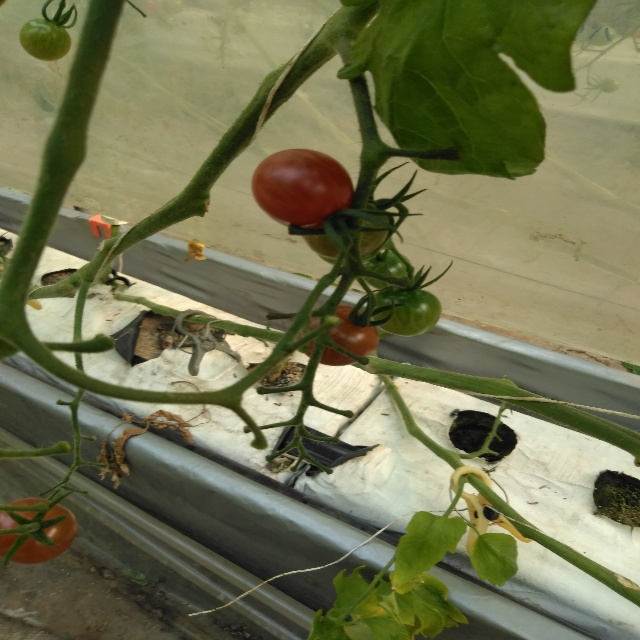l_fully_ripened: (250, 149, 354, 229)
l_green: (369, 284, 441, 337), (19, 18, 72, 61), (358, 250, 410, 289)
l_half_ripened: (299, 197, 388, 260), (0, 497, 78, 565), (296, 304, 379, 367)
